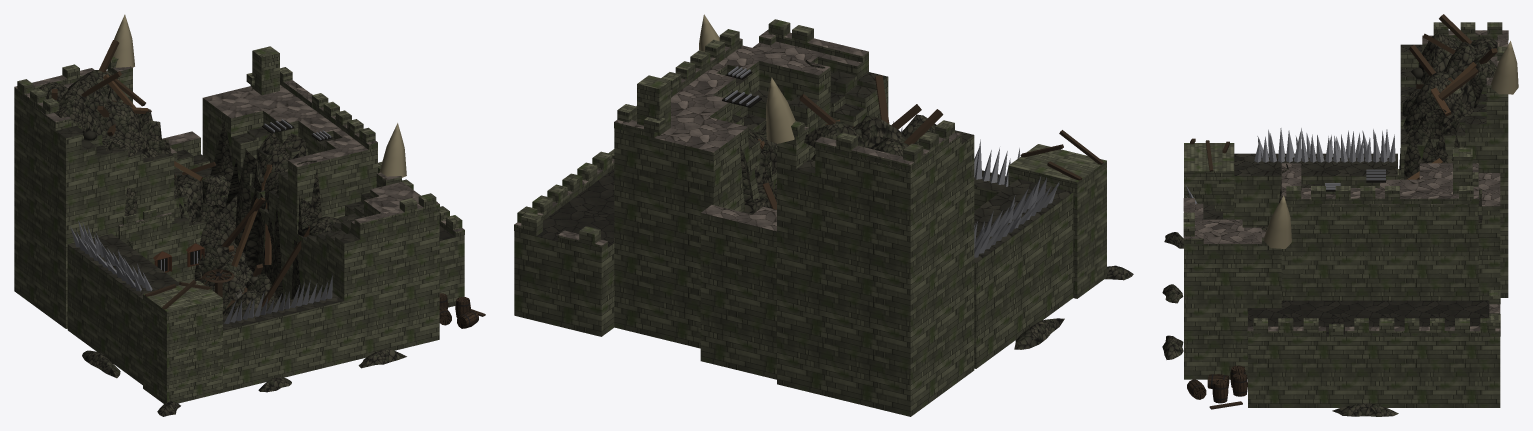
File: Tarbuild04a.glb
3 views of the same model, side by side, from view 1: azimuth 30°, elevation 25°; view 2: azimuth 150°, elevation 25°; view 3: azimuth 270°, elevation 25° (orthographic). The views are drawn at different scales.
Visible parts, largest first — view 1: Tarbuild04a; view 2: Tarbuild04a; view 3: Tarbuild04a.
Boxes of the visible parts, x1=… form: Tarbuild04a: x1=14, y1=14, x2=485, y2=416; Tarbuild04a: x1=514, y1=14, x2=1133, y2=416; Tarbuild04a: x1=1162, y1=14, x2=1518, y2=416.
Size of the model in its own units: 21.78 by 14.69 by 18.07.
21 materials, 7 textured.
